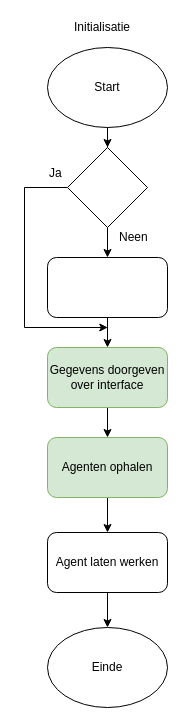
This 185x725 diagram has some shape labels left out. The centre of each missing label's shape, as x and y in pixels:
Docker aanwezig?: the point at 107,187
Installeer Docker: the point at 107,287
